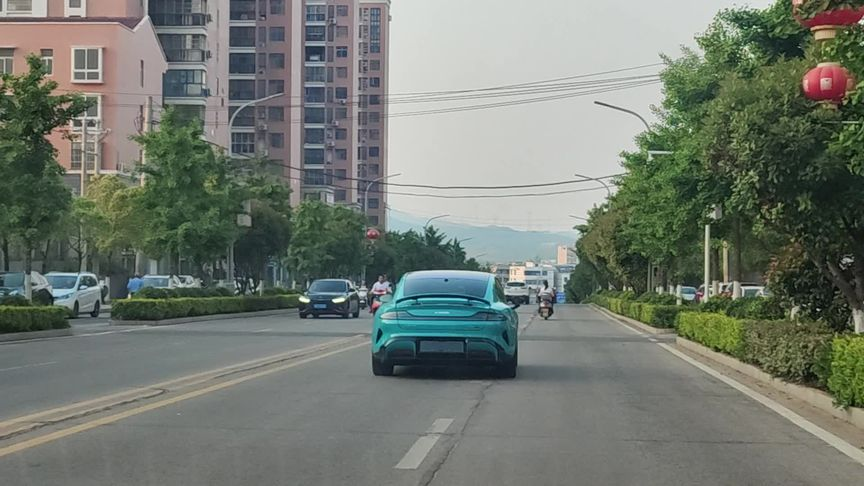other: (41, 271, 103, 318), (296, 277, 361, 321), (1, 269, 56, 313)
su7: (367, 265, 522, 377)
